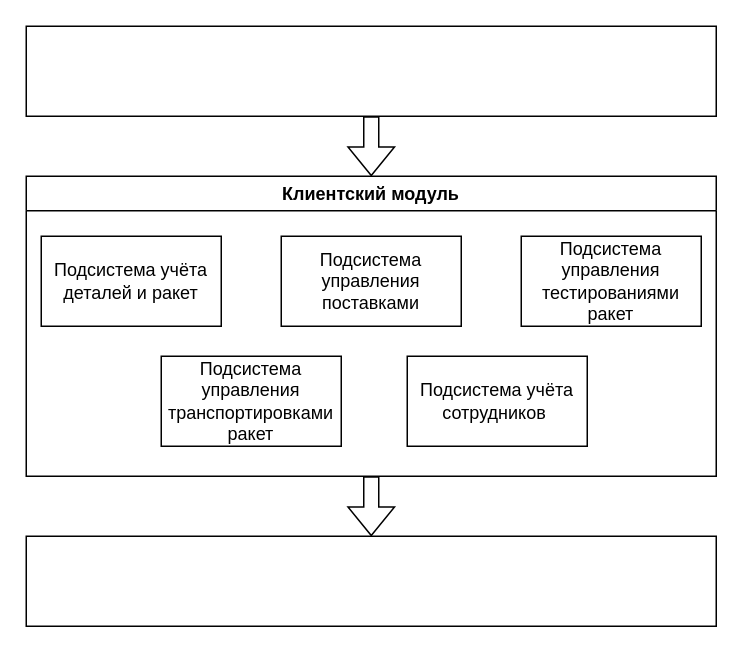
Some shapes in this 743 by 653 pixel diagram are drawn without their labels. The centre of each missing label's shape, as x and y in pixels:
"Модуль базы данных" goes at (370,580).
"Модуль графического интерфейса" goes at (370,70).
